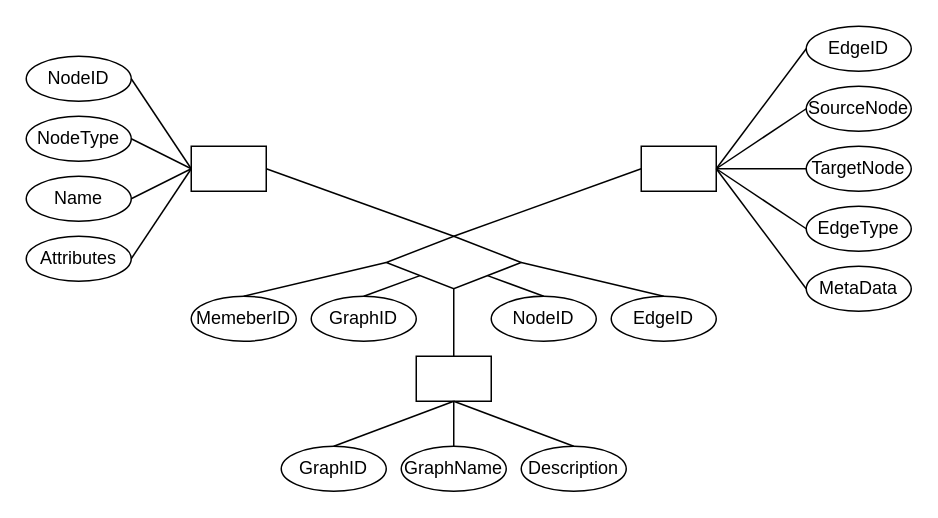
Image size: 938x518. Some labels were removed from this diagram. The box of each missing label's shape, as (x1, y1, x2, y2) in pixels:
Edges: (640, 145, 716, 191)
Graph: (415, 355, 491, 401)
Member Of: (385, 235, 521, 289)
Nodes: (190, 145, 266, 191)
